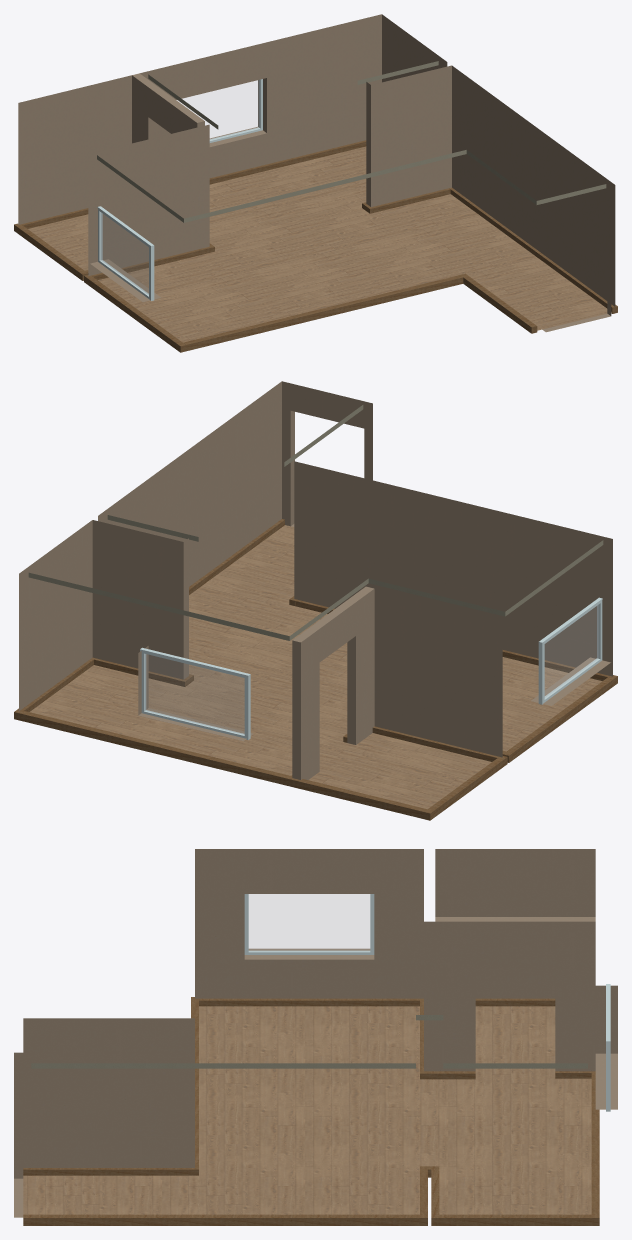
File: room_blank.glb
The picture shows the model from 3 angles, top to bottom: view 1: azimuth 30°, elevation 25°; view 2: azimuth 150°, elevation 25°; view 3: azimuth 270°, elevation 25°; orthographic projection. The views are drawn at different scales.
Parts seen in each view (by area): view 1: Room_0, Floor_3, Floor2_5, Roof_4, Window1_1, Window2_2, Window1.002_8, Window1.001_7; view 2: Room_0, Floor_3, Floor2_5, Window1_1, Roof_4, Window2_2, Window1.001_7, Window1.002_8; view 3: Room_0, Floor_3, Floor2_5, Window2_2, Roof_4, Window1.002_8, Window1.001_7.
Boxes of the visible parts, x1,y1,x2,y2 form: Room_0: (18, 14, 615, 332); Floor_3: (28, 146, 611, 342); Floor2_5: (14, 140, 617, 352); Roof_4: (97, 61, 606, 222); Window1_1: (177, 80, 259, 139); Window2_2: (101, 213, 148, 294); Window1.002_8: (97, 206, 154, 300); Window1.001_7: (209, 79, 262, 142); Room_0: (19, 381, 612, 779); Floor_3: (29, 525, 602, 809); Floor2_5: (14, 519, 617, 820); Window1_1: (145, 654, 244, 734); Roof_4: (28, 405, 603, 640); Window2_2: (545, 605, 598, 697); Window1.001_7: (140, 647, 250, 739); Window1.002_8: (538, 597, 602, 704); Room_0: (14, 849, 617, 1217); Floor_3: (23, 1006, 591, 1214); Floor2_5: (23, 997, 599, 1225); Window2_2: (249, 894, 369, 951); Roof_4: (31, 1015, 587, 1068); Window1.002_8: (244, 894, 374, 954); Window1.001_7: (606, 984, 610, 1111).
Size of the model in its own units: 7.96 by 2.54 by 8.82.
Materials: 7 (4 with a texture image).
